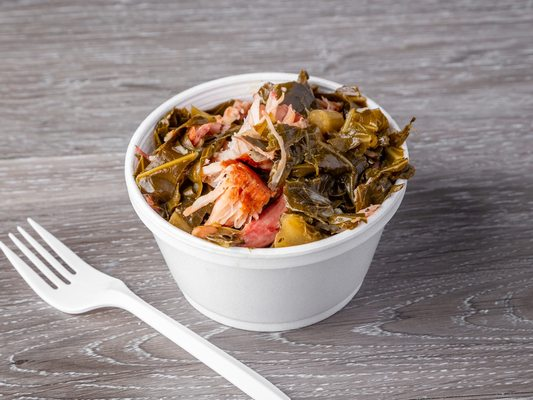burger: (1, 218, 294, 400)
sushi: (123, 66, 409, 333)
